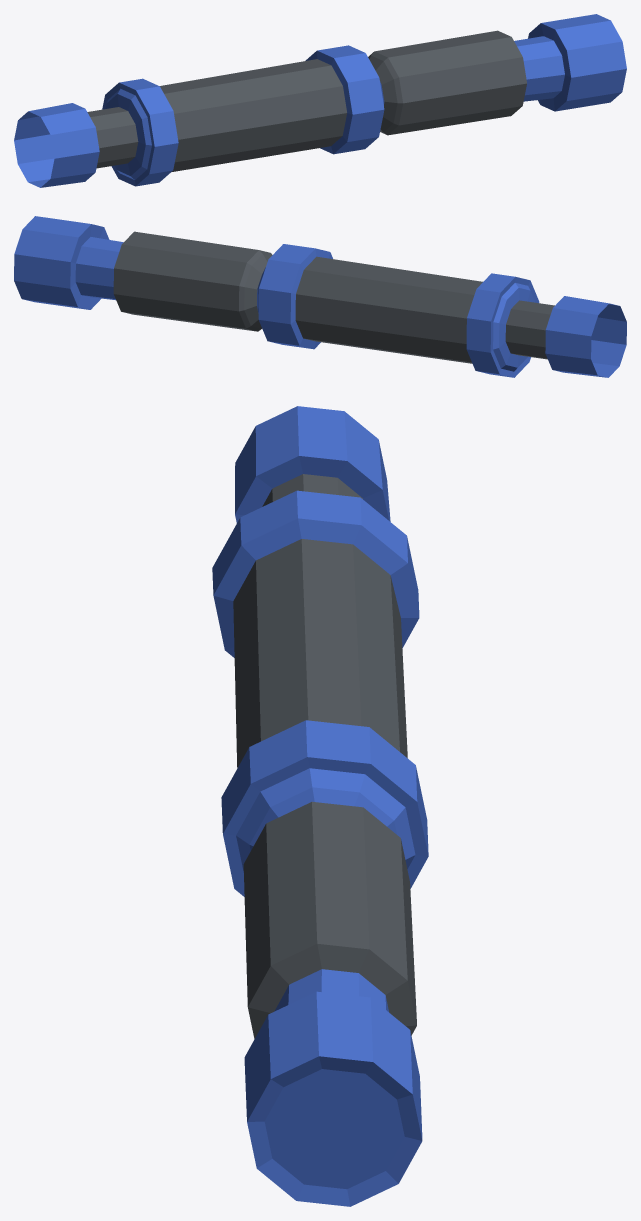
The model's file is Fighter_03_Pipes_02_Blue.fbx.
The picture shows the model from 3 angles, top to bottom: view 1: azimuth 30°, elevation 25°; view 2: azimuth 150°, elevation 25°; view 3: azimuth 270°, elevation 25°; orthographic projection. The views are drawn at different scales.
Parts seen in each view (by area): view 1: Fighter_03_Pipes_02_Blue; view 2: Fighter_03_Pipes_02_Blue; view 3: Fighter_03_Pipes_02_Blue.
Boxes of the visible parts, box(x1,y1,x2,y2) form: Fighter_03_Pipes_02_Blue: box(14, 14, 626, 187); Fighter_03_Pipes_02_Blue: box(14, 216, 626, 377); Fighter_03_Pipes_02_Blue: box(212, 406, 428, 1206).
Bounding box in the file's own units: 124 × 26.82 × 20.27.
Materials: 1 (1 with a texture image).
